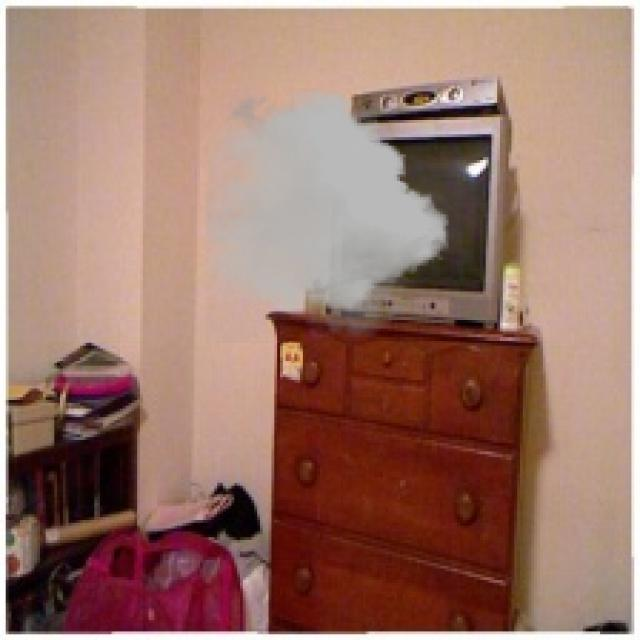smoke: (206, 86, 448, 343)
